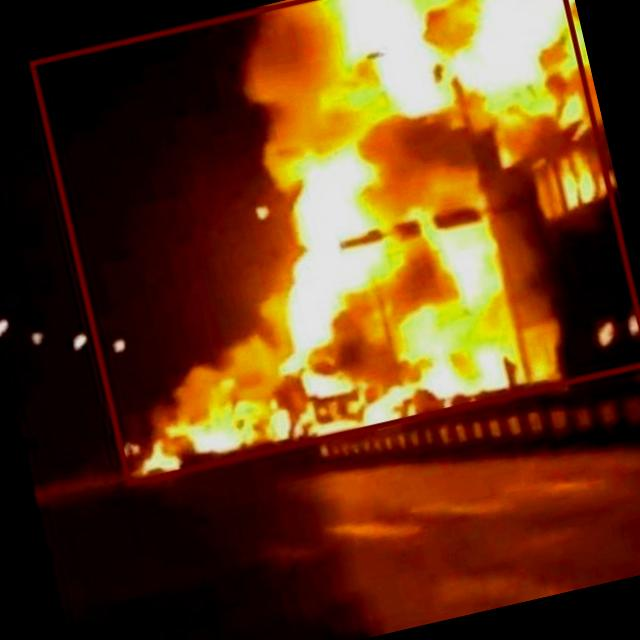fire: (29, 0, 640, 484)
